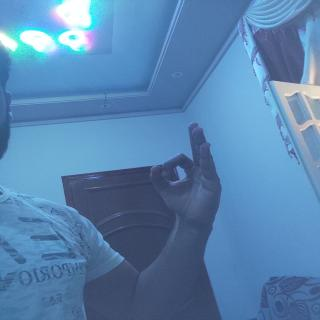Space: (133, 112, 228, 233)
